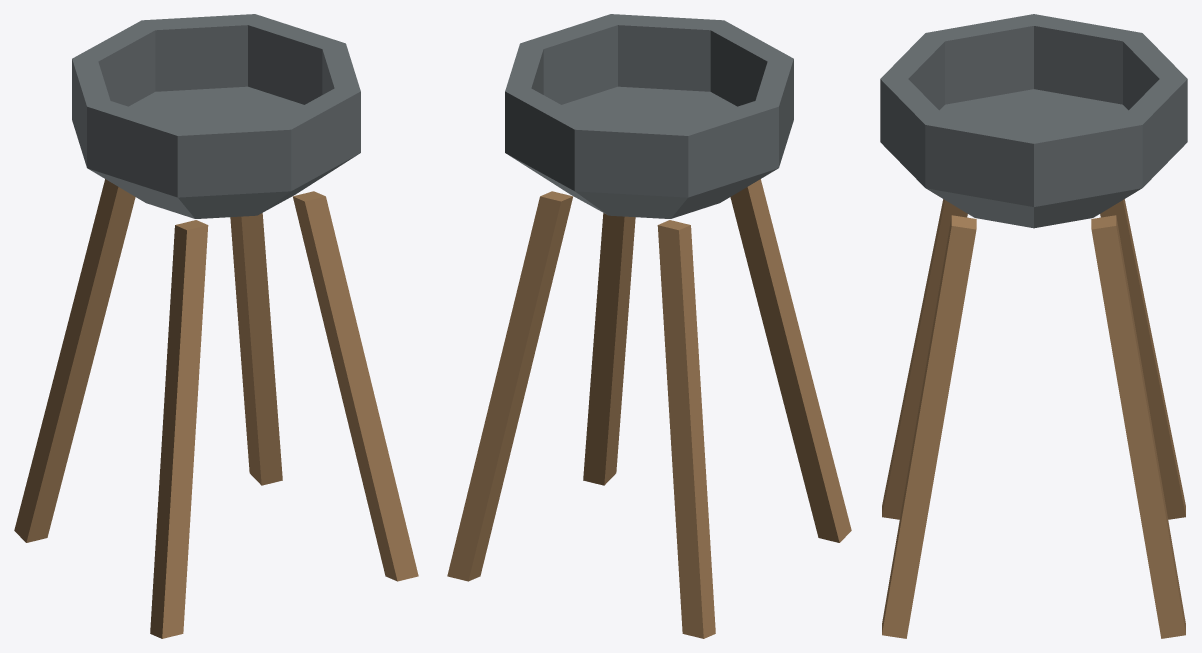
File: beacon-post.glb
3 views of the same model, side by side, from view 1: azimuth 30°, elevation 25°; view 2: azimuth 150°, elevation 25°; view 3: azimuth 270°, elevation 25° (orthographic). The views are drawn at different scales.
Parts seen in each view (by area): view 1: beacon-post; view 2: beacon-post; view 3: beacon-post.
Boxes of the visible parts, box(x1,y1,x2,y2) form: beacon-post: box(14, 14, 418, 638); beacon-post: box(447, 14, 851, 638); beacon-post: box(880, 14, 1187, 638).
Bounding box in the file's own units: 2.2 × 3.91 × 2.2.
